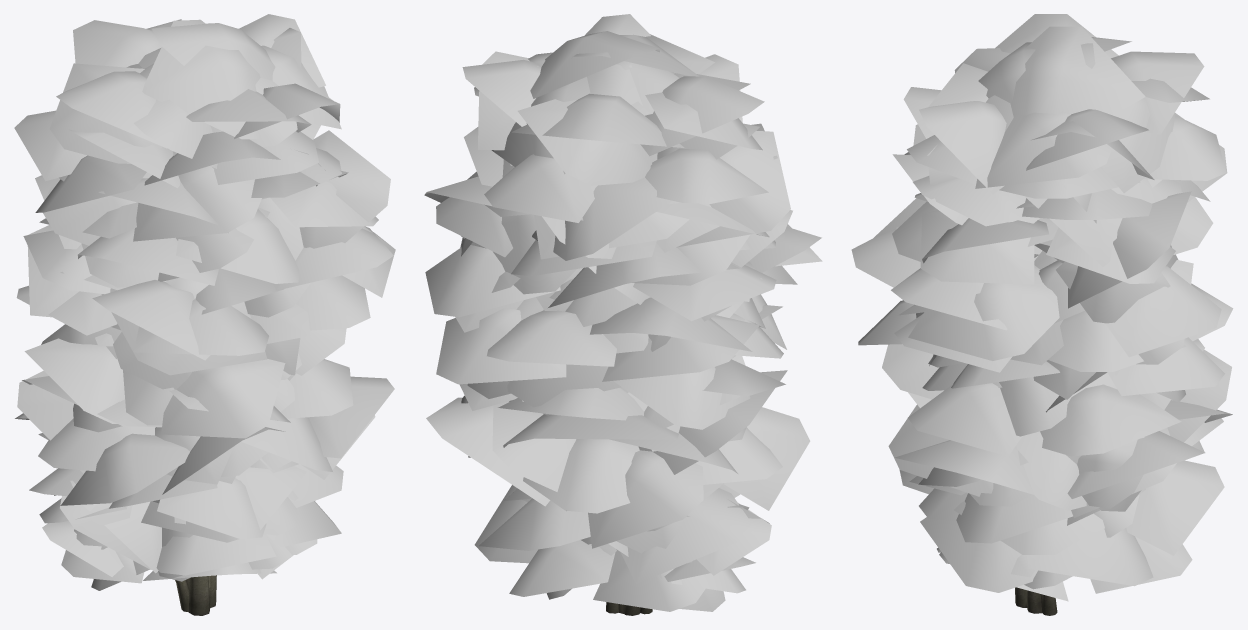
Rendered from Debregeasia_Tree.fbx.
3 views of the same model, side by side, from view 1: azimuth 30°, elevation 25°; view 2: azimuth 150°, elevation 25°; view 3: azimuth 270°, elevation 25° (orthographic).
Visible parts, largest first — view 1: Tree_LOD0; view 2: Tree_LOD0; view 3: Tree_LOD0.
Part boxes in pixels (x1,y1,x2,y2): Tree_LOD0: [14, 14, 395, 615]; Tree_LOD0: [424, 14, 822, 615]; Tree_LOD0: [851, 14, 1233, 615].
Size of what is drawn, in the model's own units: 544 by 895 by 547.
